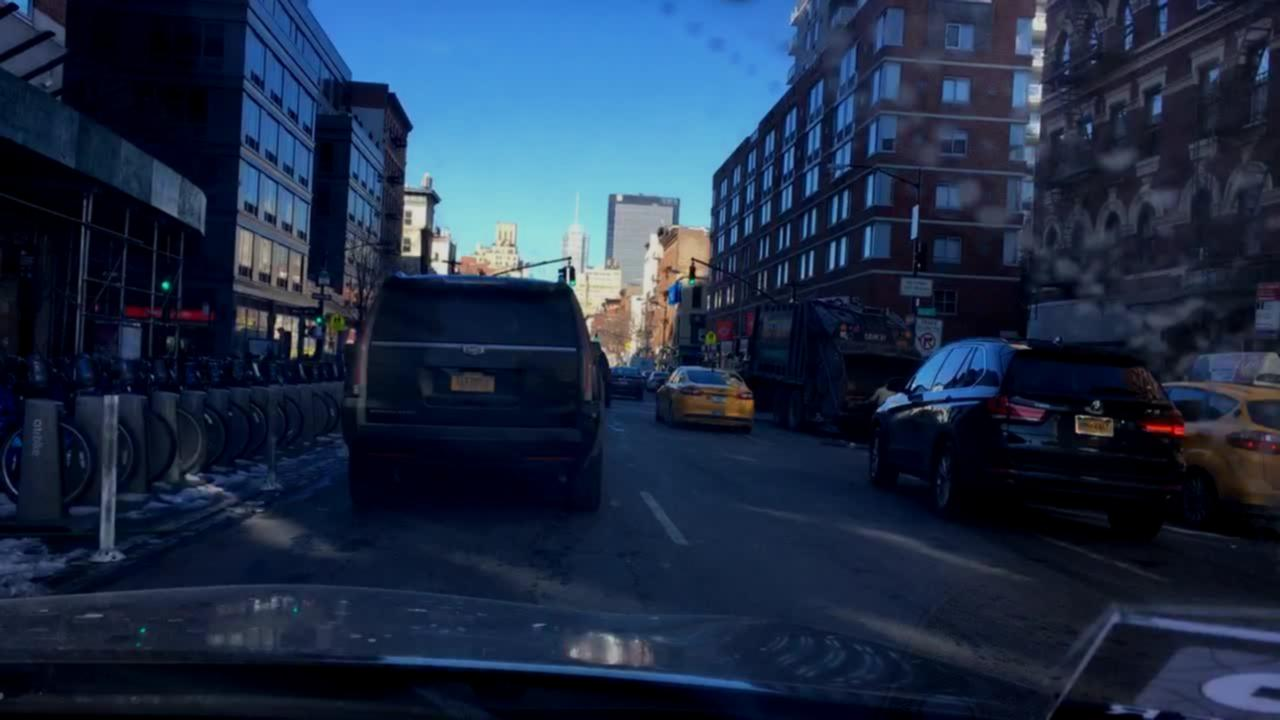bmw: (1087, 394, 1108, 418)
cadillac: (460, 340, 490, 360)
